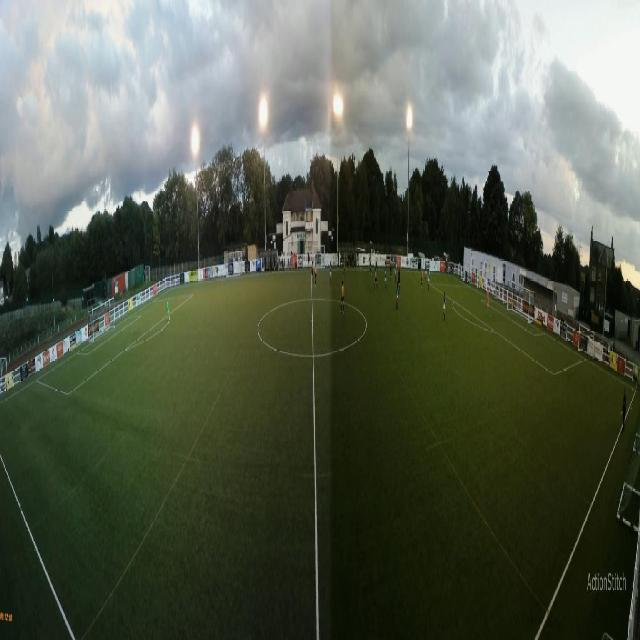player: (340, 280, 345, 314), (166, 296, 170, 326), (374, 267, 378, 291), (368, 254, 372, 278), (443, 291, 446, 321), (396, 281, 399, 310), (314, 262, 317, 289), (486, 286, 489, 311), (329, 260, 332, 284), (398, 268, 401, 292), (343, 256, 346, 278), (389, 258, 392, 280), (395, 260, 398, 281), (421, 266, 423, 290), (385, 269, 387, 291), (428, 268, 430, 290), (384, 256, 387, 270), (312, 260, 313, 282), (426, 262, 427, 282), (377, 258, 378, 269)
